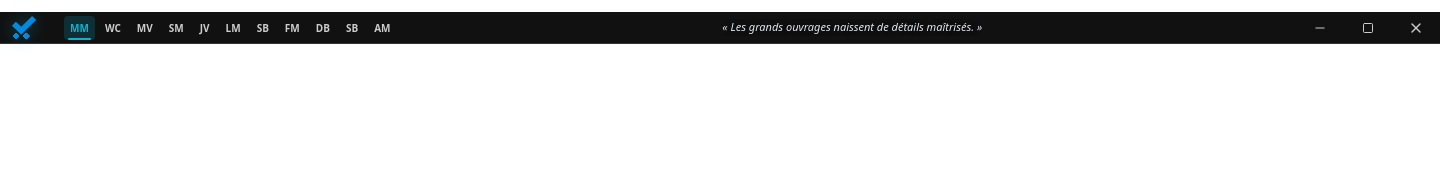
Test: title bar directory › adds a tab immediately and opens the new user view
Click the button with aria-label "Vue en tant que Alex Martin".
click(382, 28)  # box [368,16,396,40]
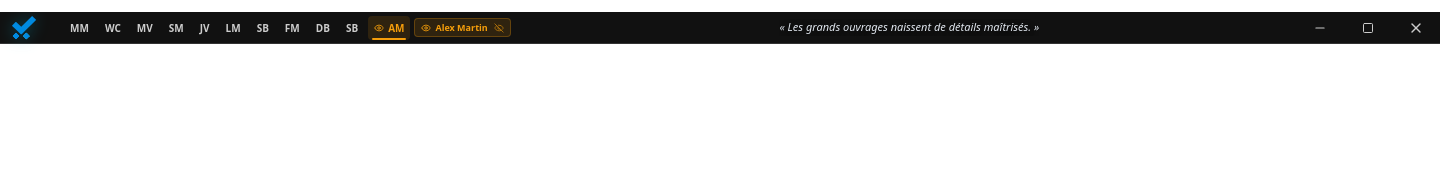
Expected: the text "Alex Martin" is shown, [436,21,488,34]
